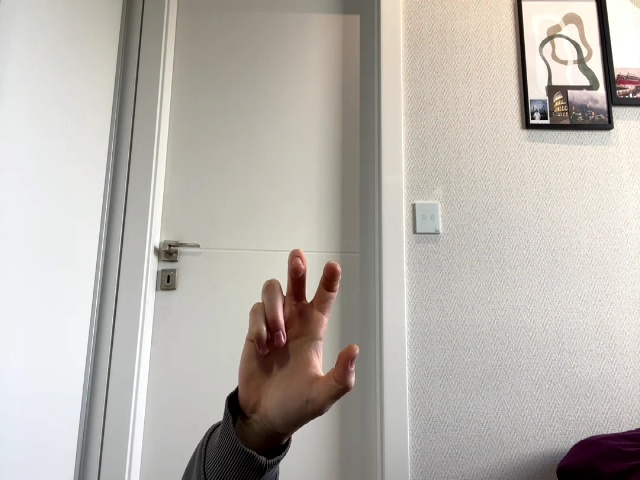CH: (238, 248, 358, 425)
